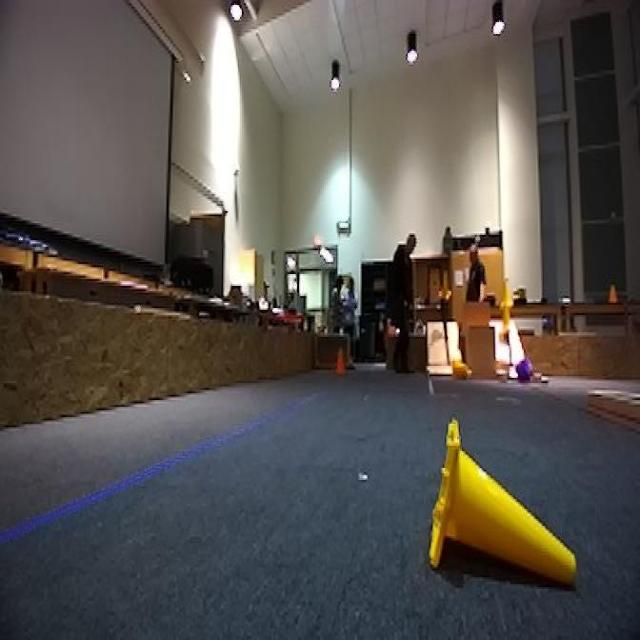frc_cone: (429, 419, 576, 594), (500, 279, 514, 312), (450, 361, 466, 383), (499, 310, 512, 337)
frc_cube: (516, 352, 534, 382)
